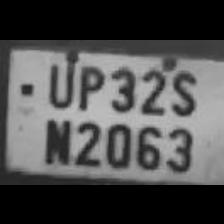0: (102, 118, 132, 168)
2: (136, 61, 166, 115), (70, 116, 100, 166)
3: (163, 121, 195, 173), (104, 60, 136, 110)
6: (133, 121, 163, 171)
N: (38, 114, 70, 164)
P: (74, 58, 106, 112)
S: (166, 63, 198, 115)
U: (42, 56, 76, 108)
